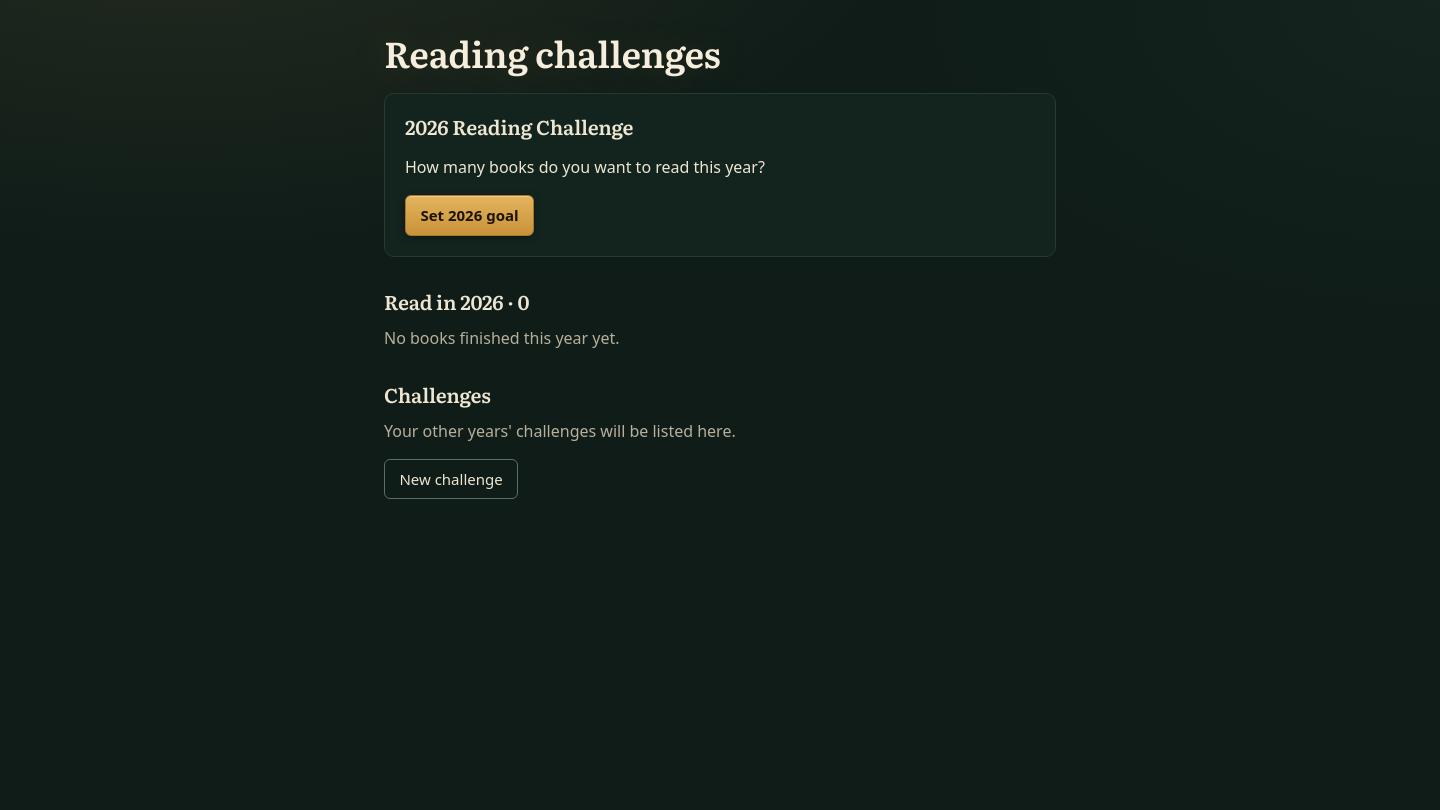
Scenario: reading challenges › aNewChallengeCanBeForNextYear
The image size is (1440, 810).
Click the button "New challenge". click: (451, 479)
box: [384,459,518,499]
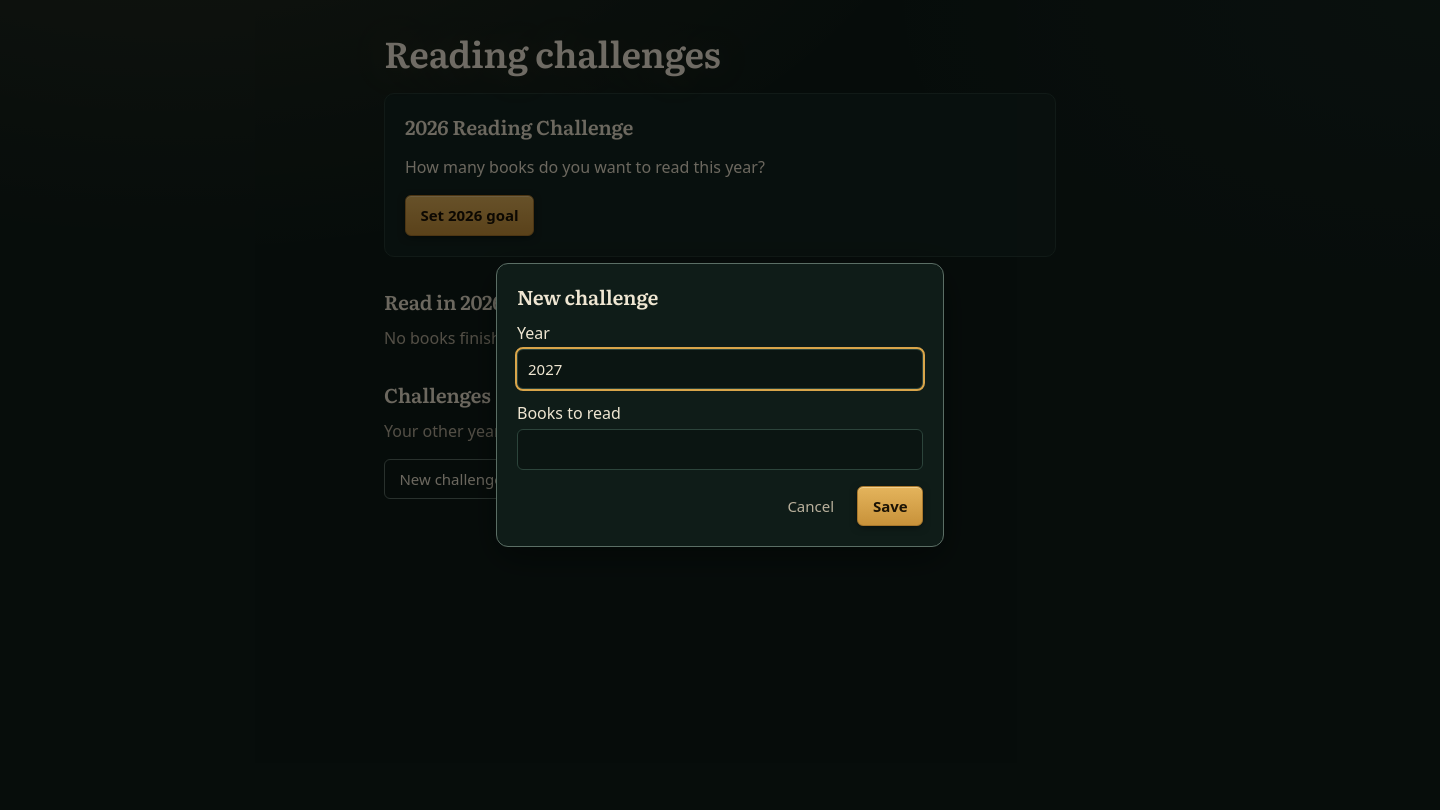
Expected: the field labelled "Year" holds "2027", [517,349,923,389]
Type "12" into the field labelled "Books to read". click: (720, 450)
box: [517,429,923,470]
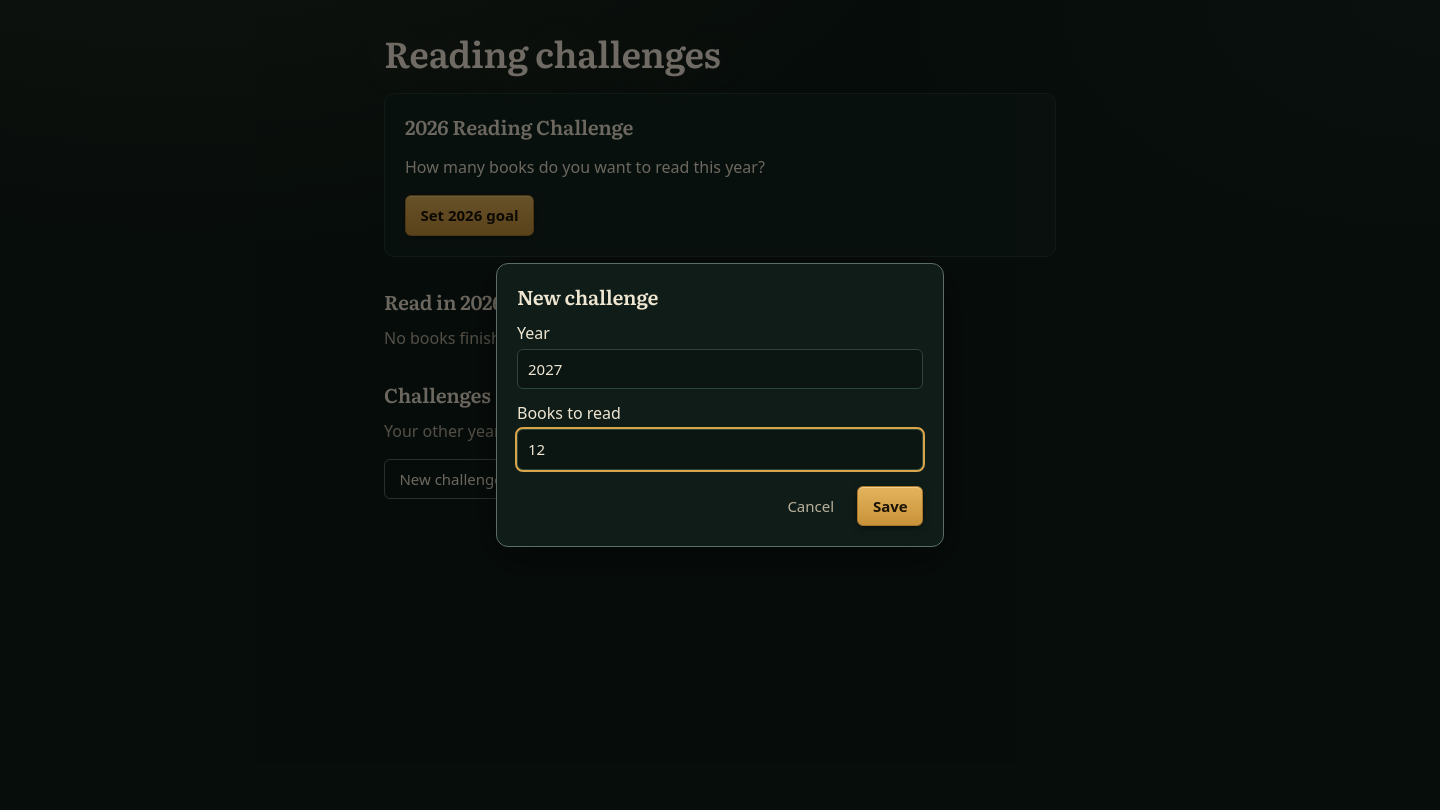
Click the button "Save". click: (890, 506)
box: [858,486,923,526]
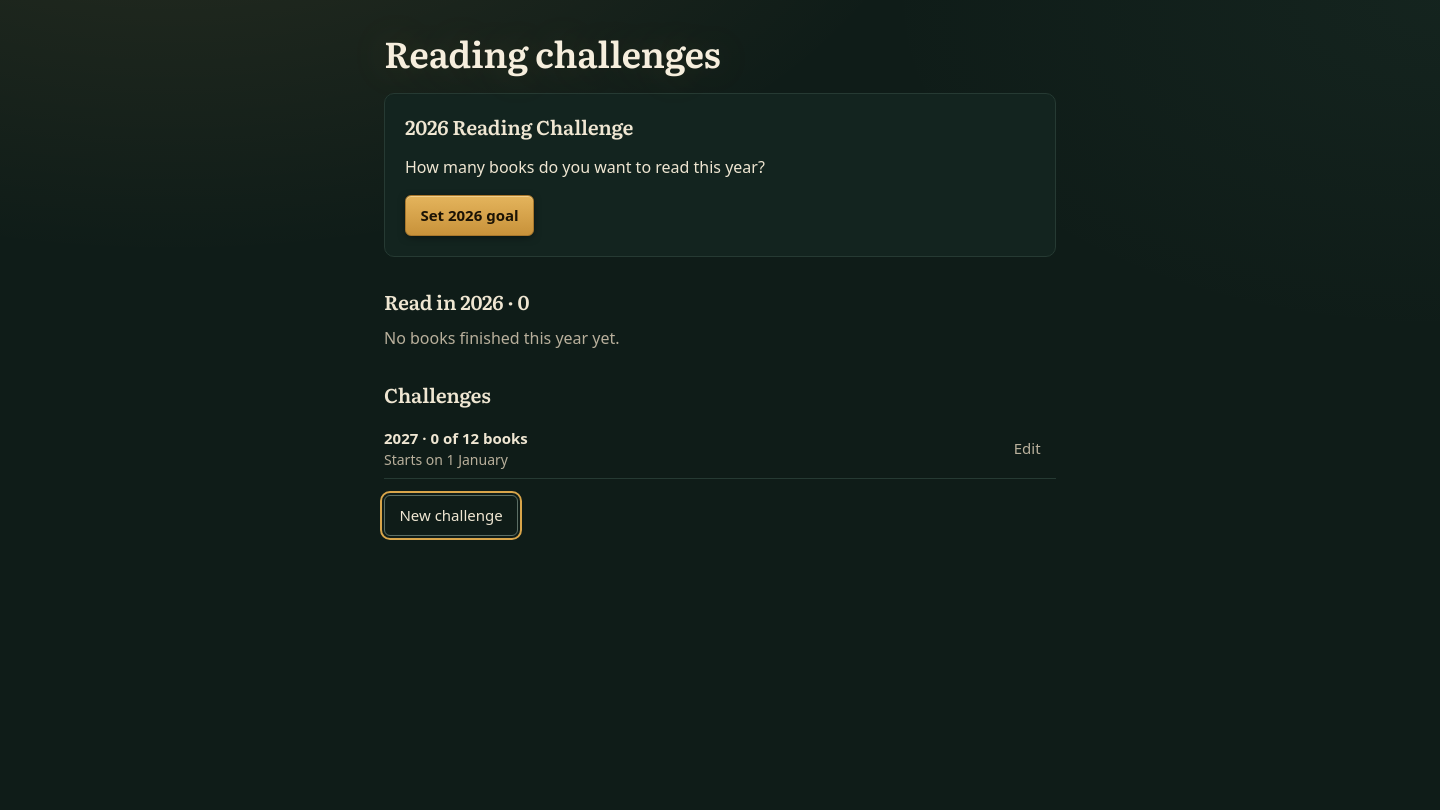
Expected: the button "2027 · 0 of 12 books" is shown, [384,427,528,449]
Expected: the text "Starts on 1 January" is shown, [384,449,508,470]
